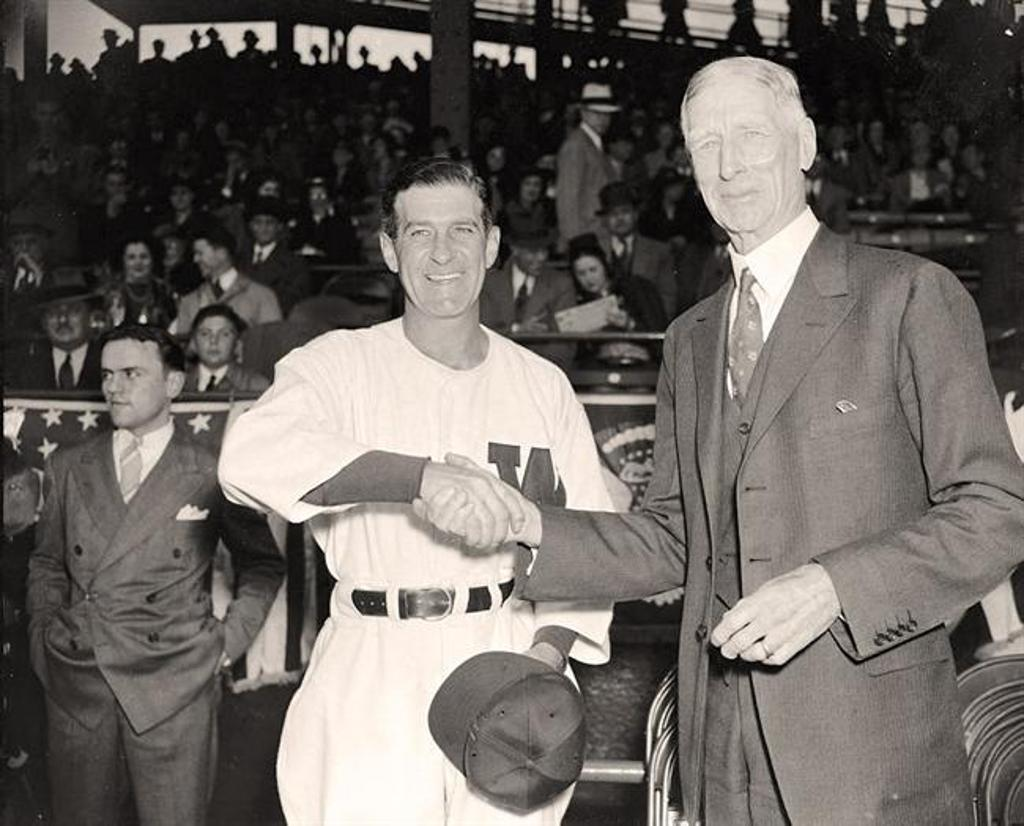face: (686, 96, 800, 231), (392, 187, 485, 314), (101, 343, 165, 425), (44, 296, 89, 341), (196, 318, 235, 363), (573, 258, 604, 292), (520, 238, 547, 276), (11, 231, 41, 265), (194, 240, 218, 275), (606, 202, 632, 234), (125, 245, 150, 277), (587, 101, 610, 132), (157, 234, 178, 261), (521, 176, 541, 201), (170, 187, 190, 209), (258, 182, 278, 204), (256, 216, 275, 239)
